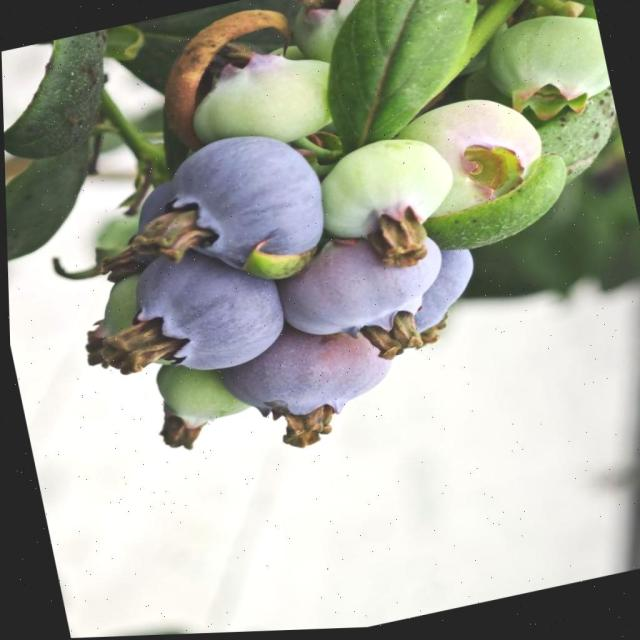RipeBlueBerry: (148, 122, 334, 290), (118, 233, 293, 388), (272, 221, 456, 357)
Semi-RipeBlueBerry: (215, 322, 402, 442)
UnripeBlueBerry: (309, 127, 465, 256)
